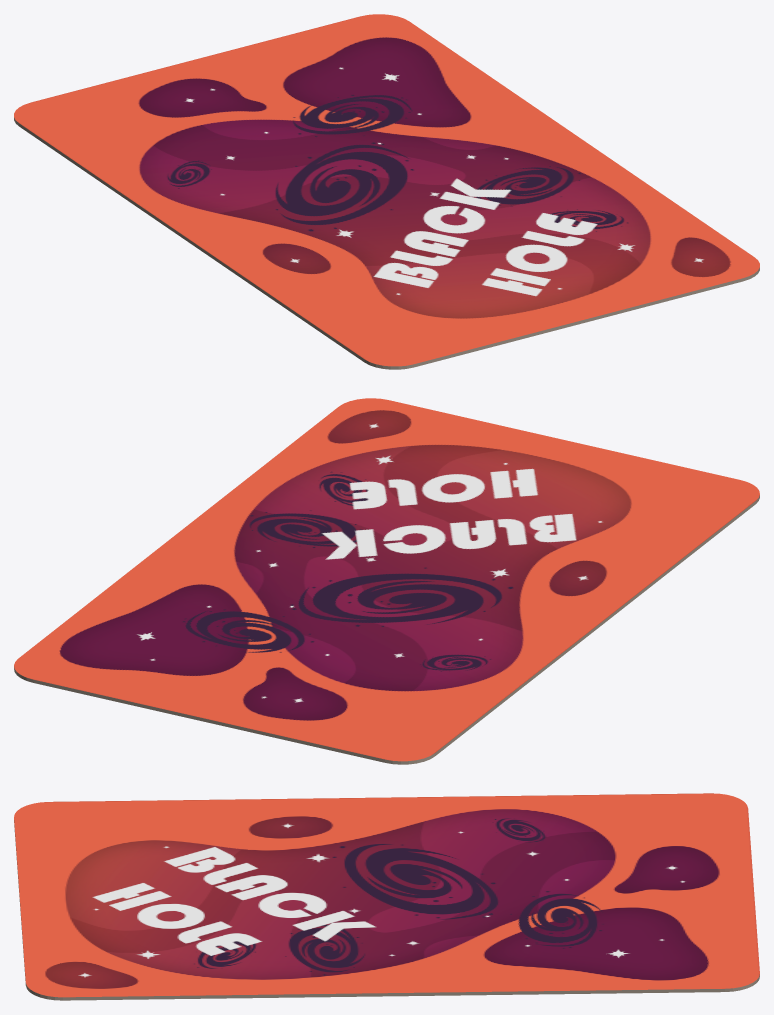
Rendered from blackhole.fbx.
The picture shows the model from 3 angles, top to bottom: view 1: azimuth 30°, elevation 25°; view 2: azimuth 150°, elevation 25°; view 3: azimuth 270°, elevation 25°; orthographic projection. The views are drawn at different scales.
Parts seen in each view (by area): view 1: card.001; view 2: card.001; view 3: card.001.
Part boxes in pixels (x1,y1,x2,y2): card.001: (14, 14, 759, 369); card.001: (14, 398, 759, 764); card.001: (14, 793, 759, 1000).
Size of the model in its own units: 222 by 1.66 by 343.
